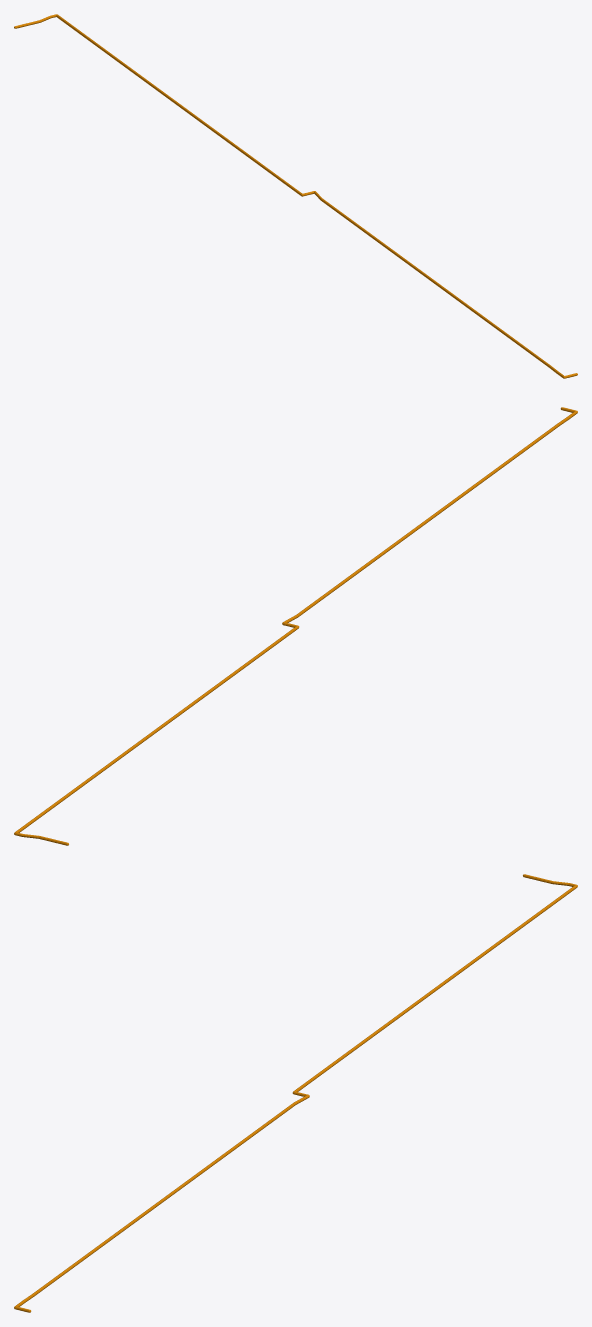
3 renders of one model, top to bottom at view 1: azimuth 30°, elevation 25°; view 2: azimuth 150°, elevation 25°; view 3: azimuth 330°, elevation 25°, orthographic. The views are drawn at different scales.
Size of the model in its own units: 551 by 20 by 7013.
